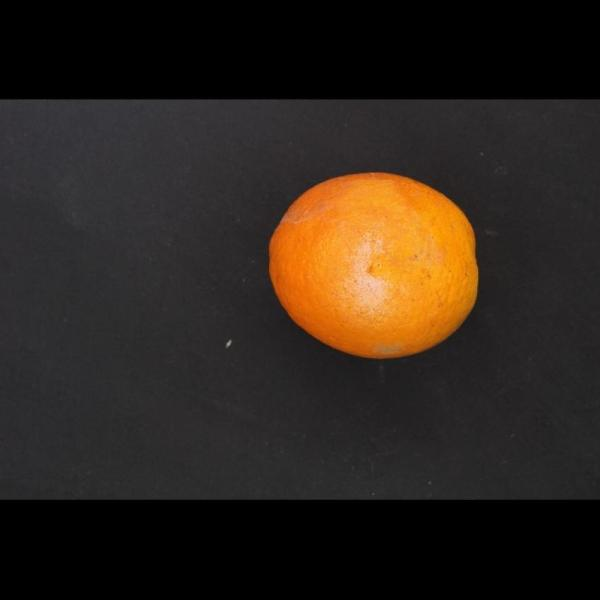Moho verde: (247, 156, 495, 371)
